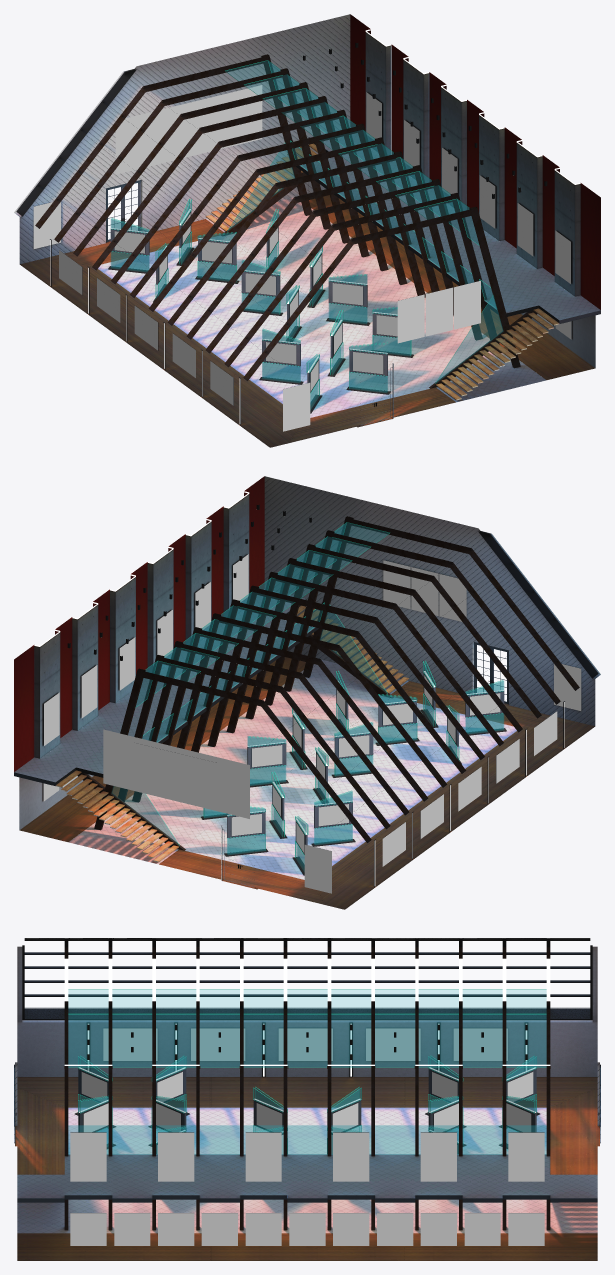
File: Virtual Gallery.gltf
The picture shows the model from 3 angles, top to bottom: view 1: azimuth 30°, elevation 25°; view 2: azimuth 150°, elevation 25°; view 3: azimuth 270°, elevation 25°; orthographic projection. The views are drawn at different scales.
Visible parts, largest first — view 1: 07_Floor_07_Floor_0, 05_Wall_05_Wall_0, 03_Black_03_Black_0, 10_Glass_10_Glass_0, 06_Floor_06_Floor_0, 02_Black_02_Black_0, 13_Concrete_13_Concrete_0, 14_Panels_14_Panels_0, VL09_VL09_0, 01_Black_01_Black_0, 09_Stairs_09_Stairs_0, 04_Pospartu_04_Pospartu_0 (+22 smaller); view 2: 07_Floor_07_Floor_0, 05_Wall_05_Wall_0, 03_Black_03_Black_0, 06_Floor_06_Floor_0, 10_Glass_10_Glass_0, 13_Concrete_13_Concrete_0, 02_Black_02_Black_0, 14_Panels_14_Panels_0, VL09_VL09_0, 01_Black_01_Black_0, 09_Stairs_09_Stairs_0, 04_Pospartu_04_Pospartu_0 (+22 smaller); view 3: 10_Glass_10_Glass_0, 07_Floor_07_Floor_0, 06_Floor_06_Floor_0, 12_Glass_12_Glass_0, 08_Concrete_08_Concrete_0, 01_Black_01_Black_0, 02_Black_02_Black_0, 15_Lighting_15_Lighting_0, 11_Glass_11_Glass_0, 04_Pospartu_04_Pospartu_0, VL01_VL01_0, VL06_VL06_0 (+31 smaller).
Part boxes in pixels (bbox=[...]): 07_Floor_07_Floor_0: bbox=[98, 127, 600, 417]; 05_Wall_05_Wall_0: bbox=[19, 14, 393, 418]; 03_Black_03_Black_0: bbox=[35, 31, 580, 380]; 10_Glass_10_Glass_0: bbox=[111, 61, 503, 409]; 06_Floor_06_Floor_0: bbox=[20, 195, 595, 447]; 02_Black_02_Black_0: bbox=[221, 54, 537, 388]; 13_Concrete_13_Concrete_0: bbox=[365, 32, 580, 296]; 14_Panels_14_Panels_0: bbox=[350, 14, 600, 309]; VL09_VL09_0: bbox=[115, 85, 262, 174]; 01_Black_01_Black_0: bbox=[16, 42, 600, 425]; 09_Stairs_09_Stairs_0: bbox=[205, 143, 559, 400]; 04_Pospartu_04_Pospartu_0: bbox=[106, 180, 397, 425]; 07_Floor_07_Floor_0: bbox=[14, 589, 516, 879]; 05_Wall_05_Wall_0: bbox=[221, 476, 595, 880]; 03_Black_03_Black_0: bbox=[34, 493, 579, 842]; 06_Floor_06_Floor_0: bbox=[19, 657, 594, 909]; 10_Glass_10_Glass_0: bbox=[111, 523, 503, 871]; 13_Concrete_13_Concrete_0: bbox=[34, 494, 249, 758]; 02_Black_02_Black_0: bbox=[77, 516, 393, 850]; 14_Panels_14_Panels_0: bbox=[14, 476, 264, 771]; VL09_VL09_0: bbox=[103, 729, 249, 818]; 01_Black_01_Black_0: bbox=[14, 504, 598, 887]; 09_Stairs_09_Stairs_0: bbox=[55, 605, 409, 862]; 04_Pospartu_04_Pospartu_0: bbox=[222, 642, 508, 887]; 10_Glass_10_Glass_0: bbox=[68, 990, 546, 1154]; 07_Floor_07_Floor_0: bbox=[17, 1107, 597, 1233]; 06_Floor_06_Floor_0: bbox=[15, 1077, 599, 1260]; 12_Glass_12_Glass_0: bbox=[25, 941, 589, 1008]; 08_Concrete_08_Concrete_0: bbox=[17, 946, 597, 1076]; 01_Black_01_Black_0: bbox=[15, 938, 599, 1202]; 02_Black_02_Black_0: bbox=[64, 1005, 550, 1230]; 15_Lighting_15_Lighting_0: bbox=[64, 958, 550, 1142]; 11_Glass_11_Glass_0: bbox=[68, 989, 546, 1153]; 04_Pospartu_04_Pospartu_0: bbox=[14, 1064, 600, 1154]; VL01_VL01_0: bbox=[508, 1132, 544, 1181]; VL06_VL06_0: bbox=[70, 1132, 106, 1181].
Bounding box in the file's own units: 18.74 × 8.97 × 24.3.
